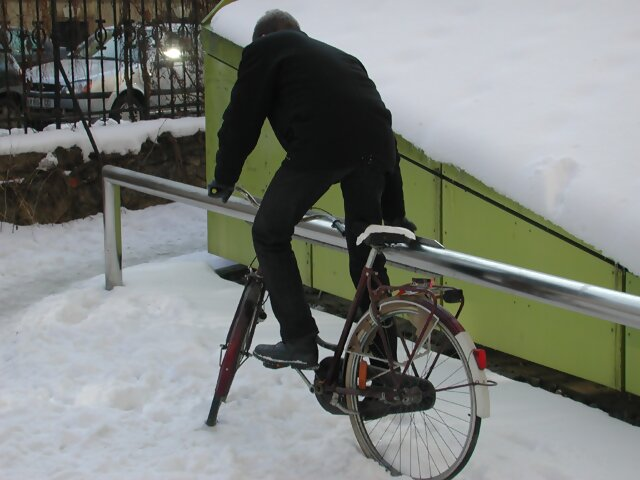person: (204, 5, 416, 373)
